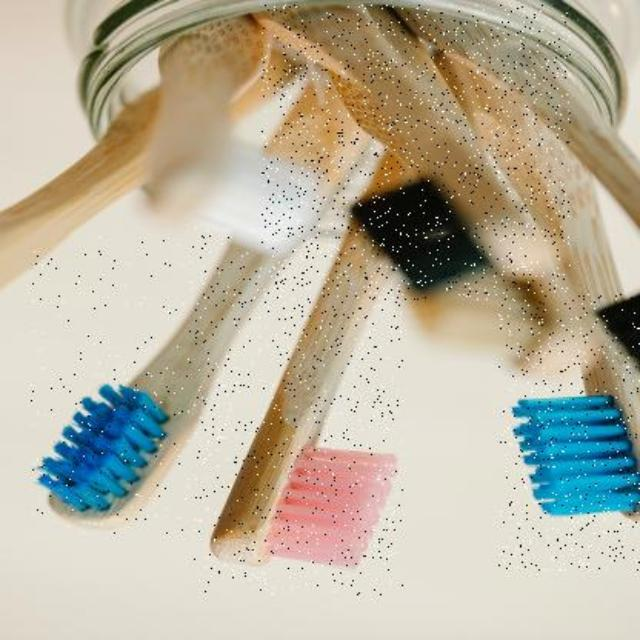toothbrush: (262, 4, 570, 300), (194, 227, 402, 596), (30, 234, 280, 536), (498, 294, 640, 570)
